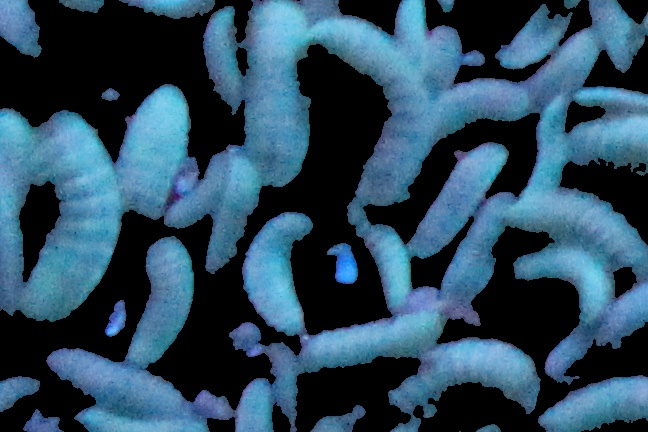larvae: (313, 11, 425, 203), (31, 109, 117, 318), (248, 1, 311, 184), (388, 343, 539, 415), (411, 143, 509, 247), (512, 189, 646, 265), (119, 83, 194, 218), (128, 232, 196, 369), (240, 212, 311, 332), (50, 349, 186, 409), (302, 311, 446, 367), (438, 194, 513, 299), (346, 197, 415, 304), (422, 77, 532, 144), (207, 156, 266, 271), (514, 249, 610, 318), (542, 372, 648, 432), (1, 105, 27, 315), (164, 153, 231, 227), (566, 115, 648, 174), (503, 1, 573, 69), (534, 29, 595, 105), (202, 5, 241, 115), (580, 1, 642, 70), (529, 98, 568, 188), (419, 17, 464, 89), (600, 287, 648, 347), (235, 375, 281, 432), (544, 327, 594, 379), (574, 84, 648, 114), (393, 1, 433, 49)
